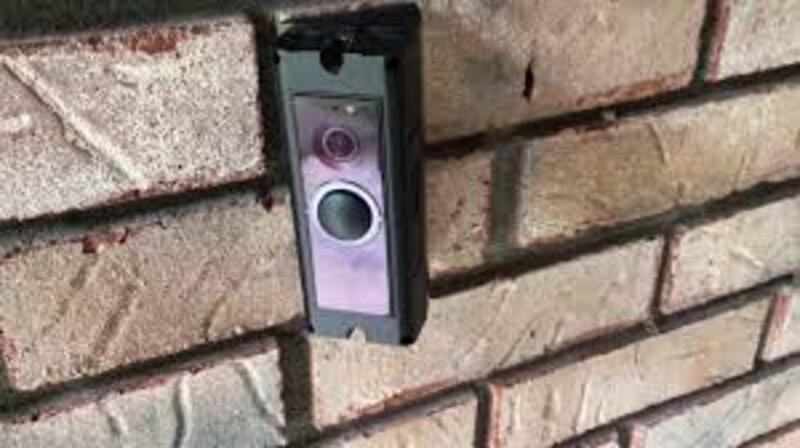doorbell: (285, 82, 399, 325)
